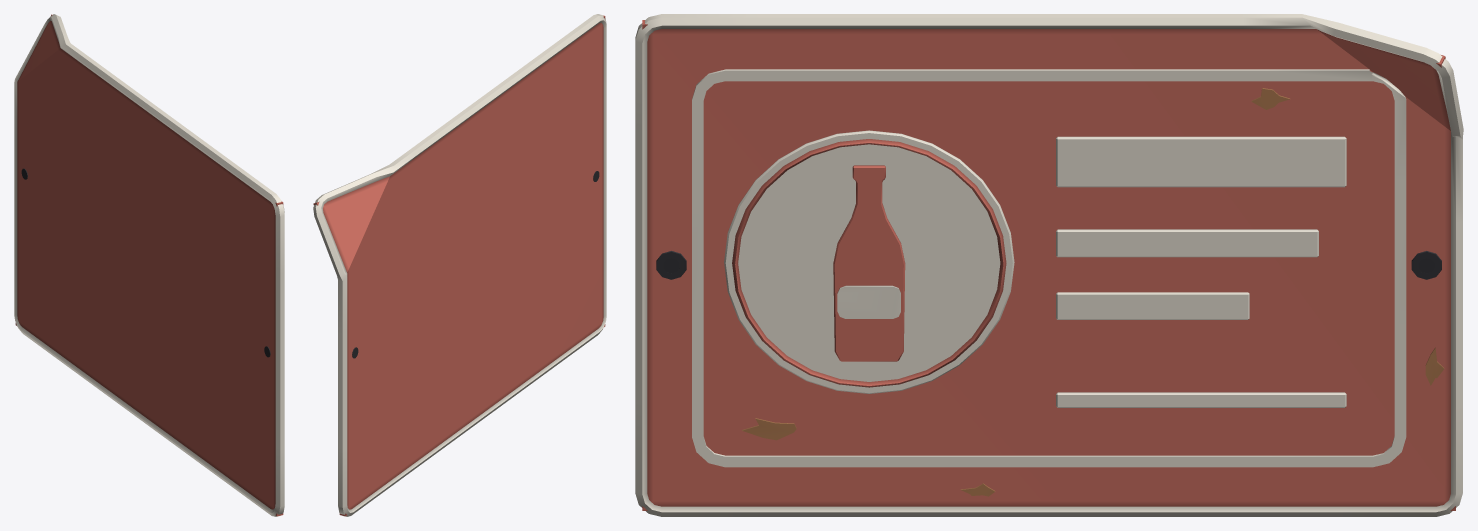
File: junk_sign.glb
The picture shows the model from 3 angles, left to right: view 1: azimuth 30°, elevation 25°; view 2: azimuth 150°, elevation 25°; view 3: azimuth 270°, elevation 25°; orthographic projection. The views are drawn at different scales.
Visible parts, largest first — view 1: PART; view 2: PART; view 3: PART.
Part boxes in pixels (left/top/right/bottom): PART: left=14, top=14, right=284, bottom=516; PART: left=313, top=14, right=606, bottom=516; PART: left=635, top=14, right=1463, bottom=516.
Size of the model in its own units: 0.0507 by 0.3984 by 0.5989.
